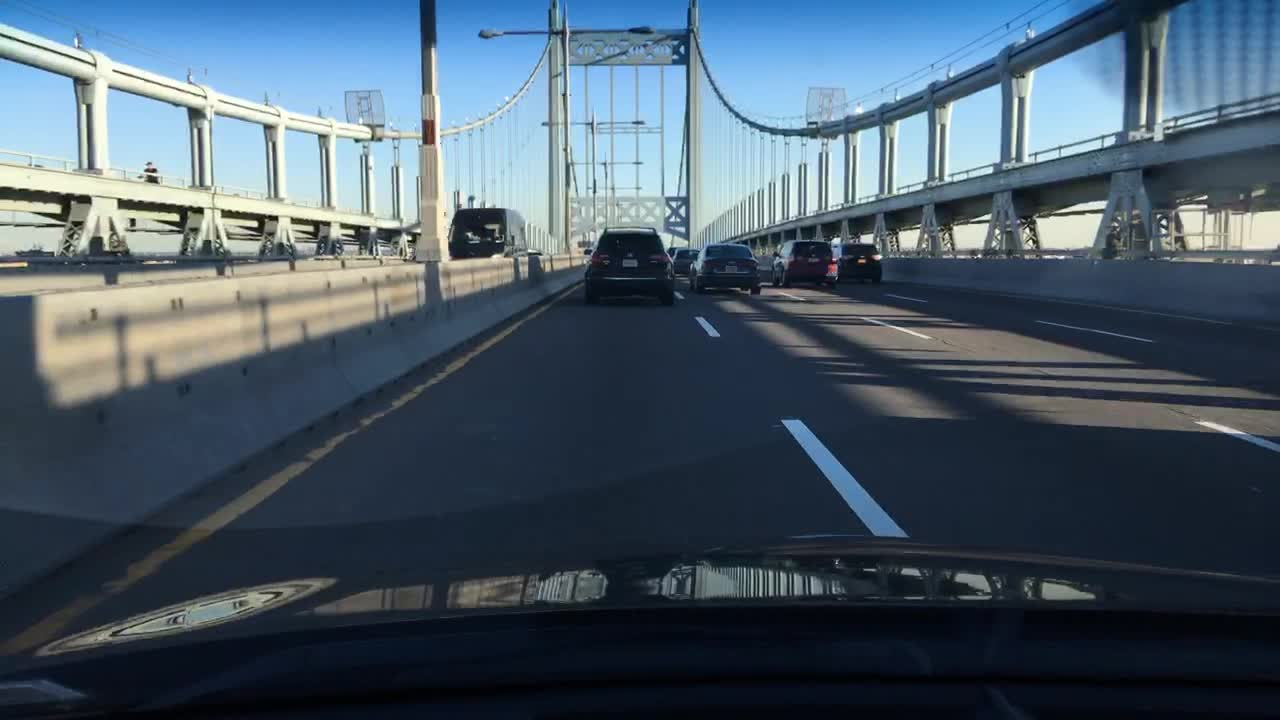car: (581, 223, 675, 305), (446, 205, 524, 258), (687, 241, 762, 294), (769, 239, 833, 288), (829, 240, 883, 284), (671, 246, 701, 277), (752, 252, 774, 284), (506, 245, 541, 257), (665, 244, 680, 256)
